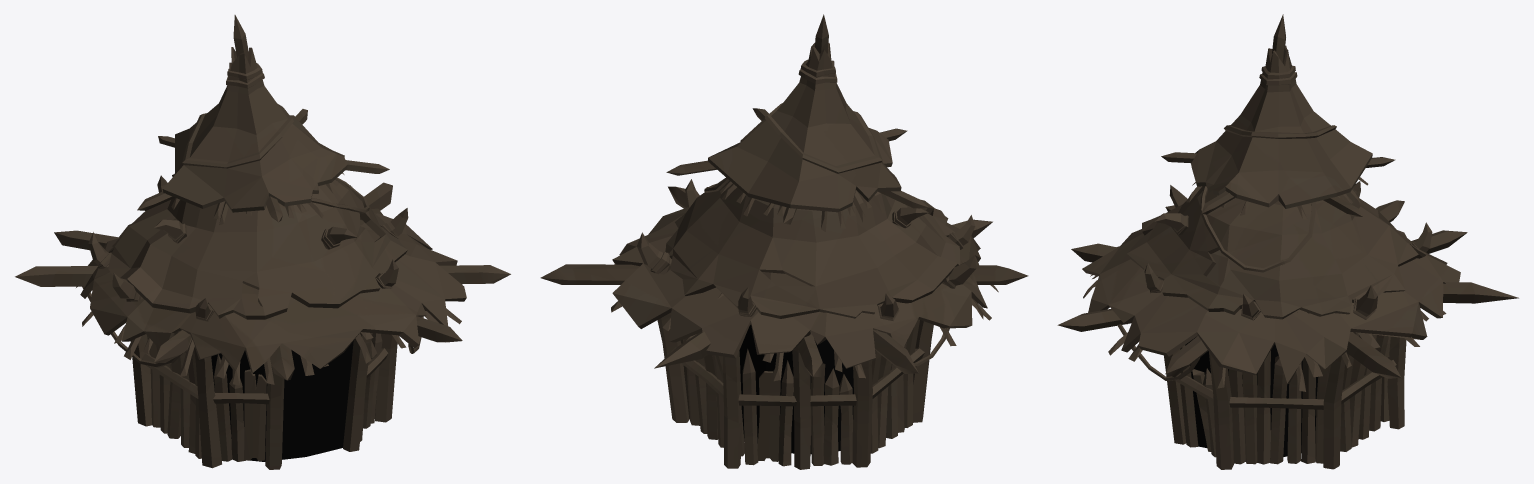
Rendered from bog_tent_leader.gltf.
The picture shows the model from 3 angles, left to right: view 1: azimuth 30°, elevation 25°; view 2: azimuth 150°, elevation 25°; view 3: azimuth 270°, elevation 25°; orthographic projection. The views are drawn at different scales.
Parts seen in each view (by area): view 1: bog_tent_leader; view 2: bog_tent_leader; view 3: bog_tent_leader.
Part boxes in pixels (x1,y1,x2,y2): bog_tent_leader: (15,15,510,469); bog_tent_leader: (540,14,1028,469); bog_tent_leader: (1057,14,1518,469).
Size of the model in its own units: 7.63 by 7.99 by 8.42.
2 materials, 2 textured.
